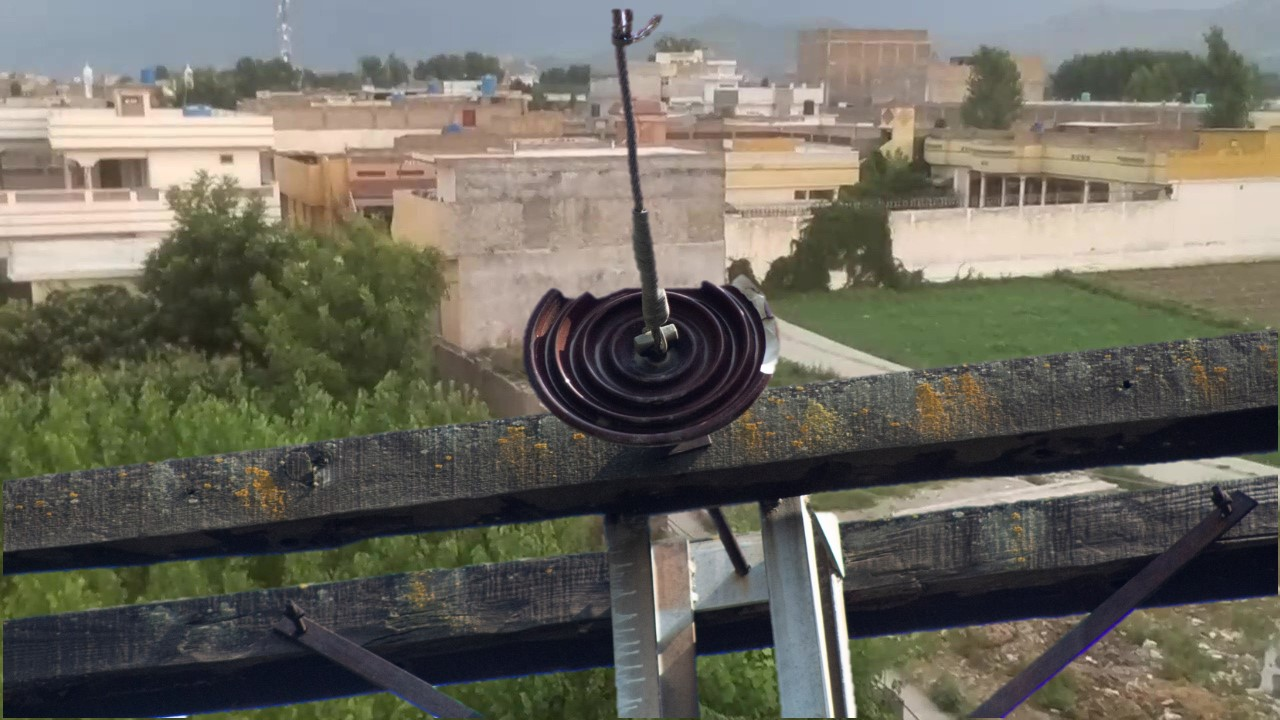defect_disc: (519, 266, 789, 445)
